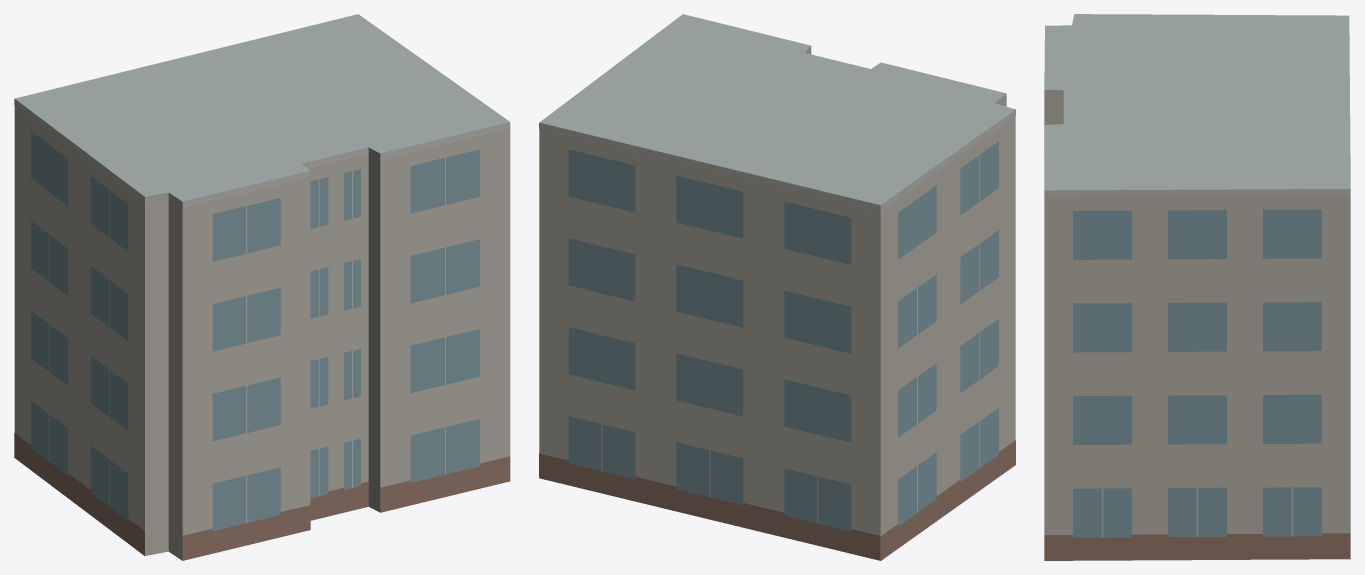
The model's file is survey-upis-32631367.glb.
The picture shows the model from 3 angles, left to right: view 1: azimuth 30°, elevation 25°; view 2: azimuth 150°, elevation 25°; view 3: azimuth 270°, elevation 25°; orthographic projection. The views are drawn at different scales.
Parts seen in each view (by area): view 1: survey-upis-32631367.tmp; view 2: survey-upis-32631367.tmp; view 3: survey-upis-32631367.tmp.
Part boxes in pixels (x1,y1,x2,y2): survey-upis-32631367.tmp: [14, 14, 510, 560]; survey-upis-32631367.tmp: [539, 14, 1015, 560]; survey-upis-32631367.tmp: [1044, 14, 1350, 560].
Size of the model in its own units: 13.5 by 13.2 by 9.91.
